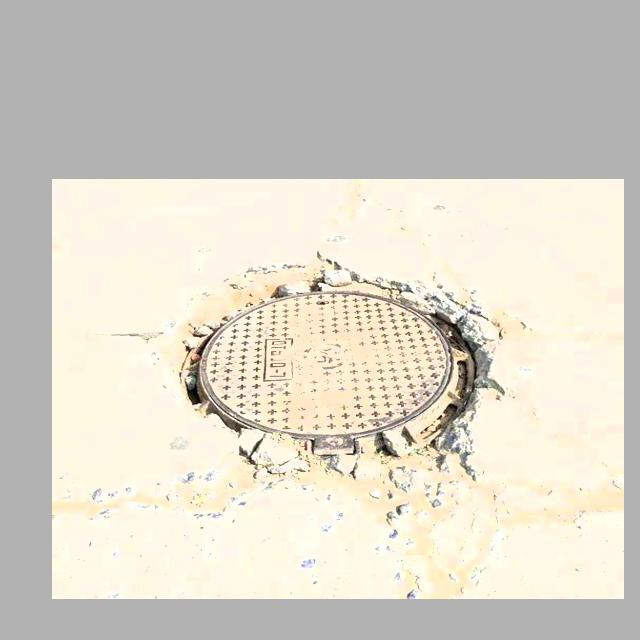circle: (136, 252, 525, 487)
